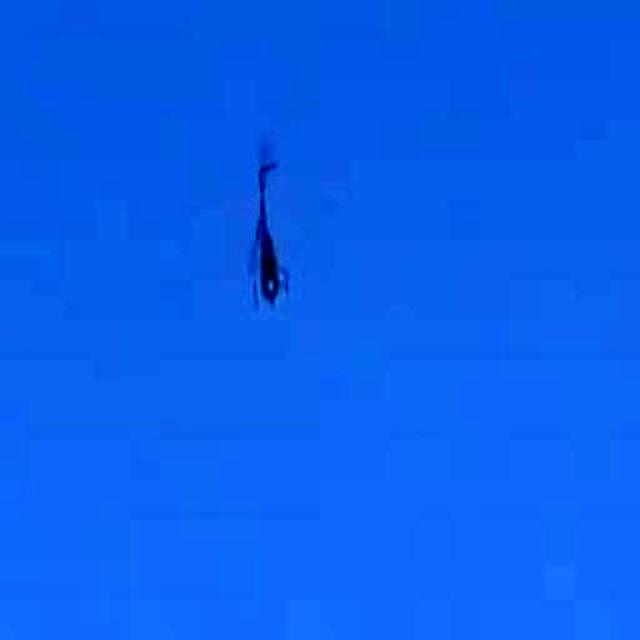drone: (175, 128, 341, 338)
